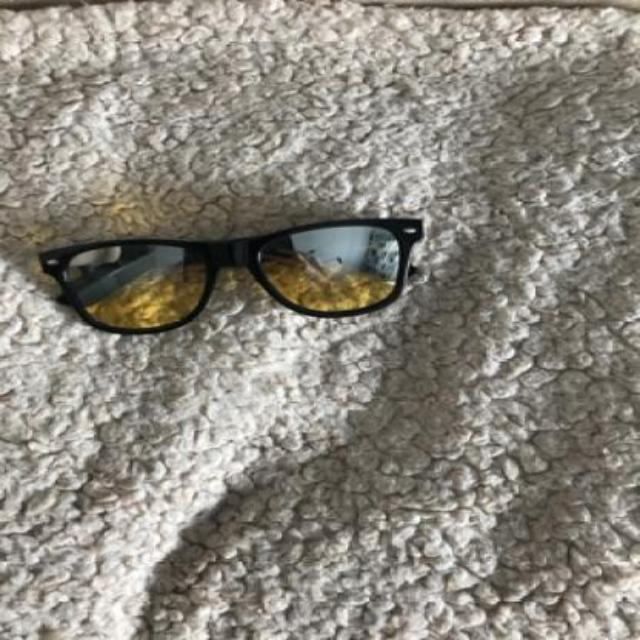sunglasses: (37, 217, 426, 333)
